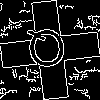Q: (25, 25, 69, 78)
